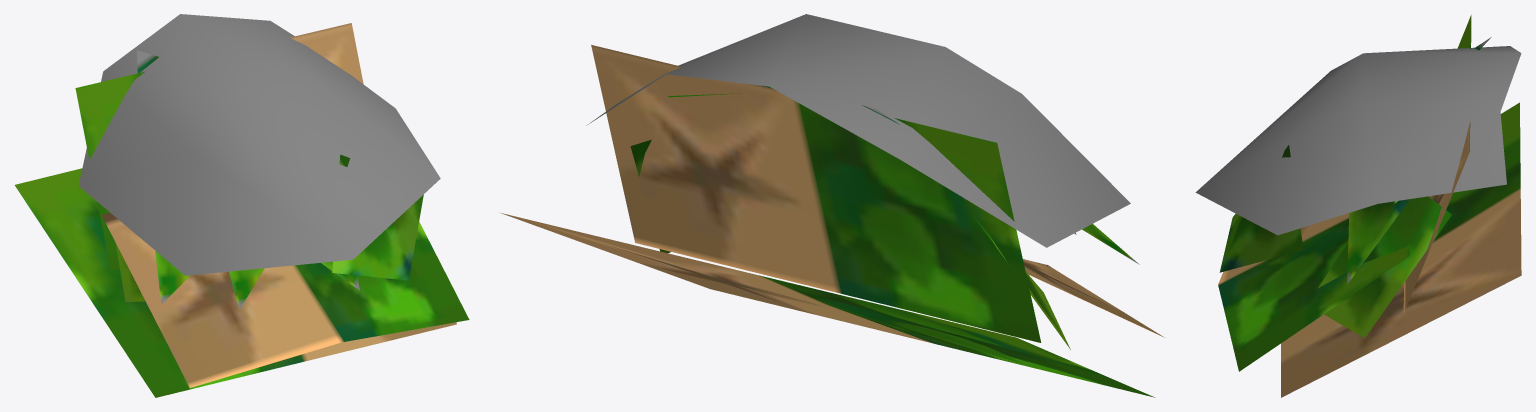
File: fg_bushC_2_s.dae
The picture shows the model from 3 angles, left to right: view 1: azimuth 30°, elevation 25°; view 2: azimuth 150°, elevation 25°; view 3: azimuth 270°, elevation 25°; orthographic projection. The views are drawn at different scales.
Parts seen in each view (by area): view 1: fg_bushC_2_s; view 2: fg_bushC_2_s; view 3: fg_bushC_2_s.
Part boxes in pixels (x1,y1,x2,y2): fg_bushC_2_s: (14,14,469,397); fg_bushC_2_s: (501,14,1164,397); fg_bushC_2_s: (1195,15,1521,397).
Bounding box in the file's own units: 47.83 × 34.27 × 38.04.
Materials: 1 (1 with a texture image).
